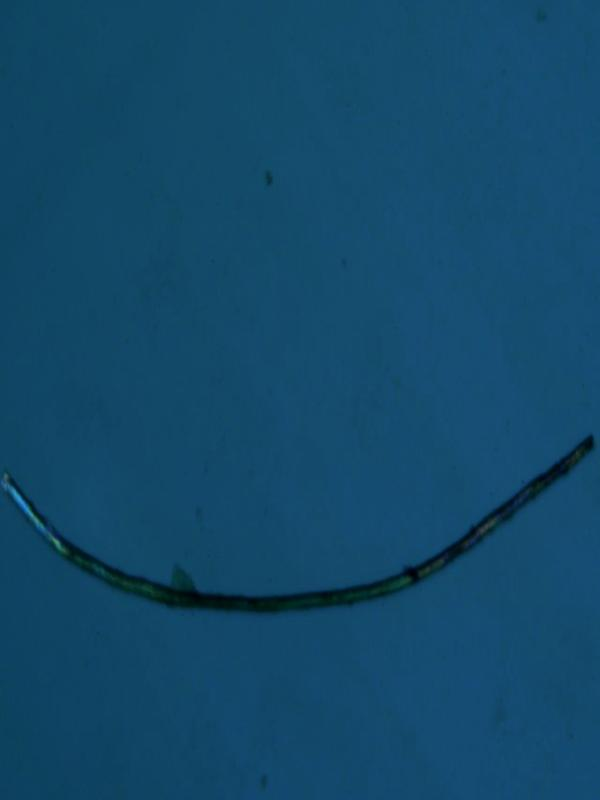microplastic: (2, 432, 595, 615)
